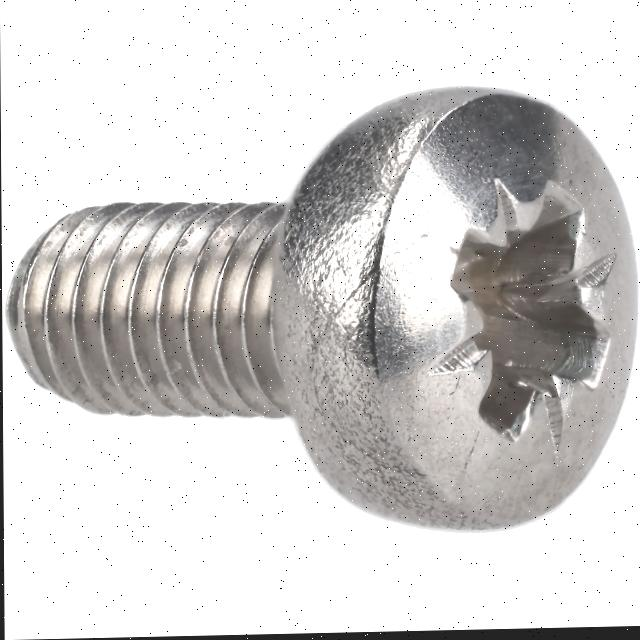Pozidriv: (361, 82, 638, 530)
